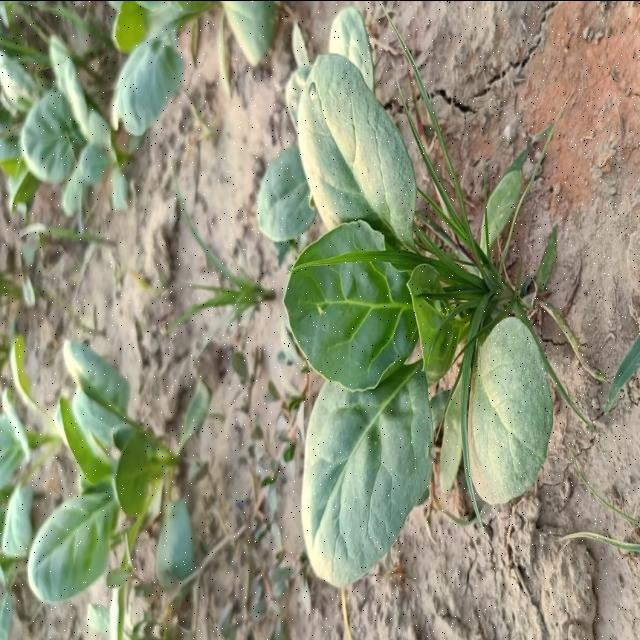plant: (285, 8, 571, 586)
